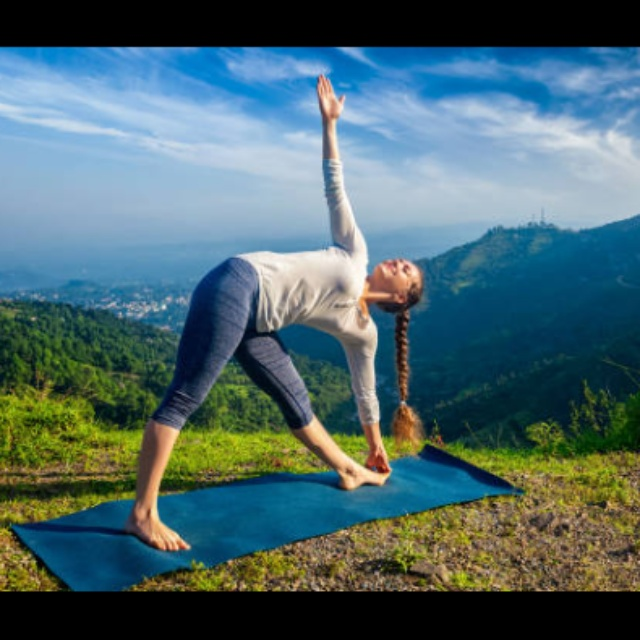Triangle_Pose: (107, 70, 439, 560)
